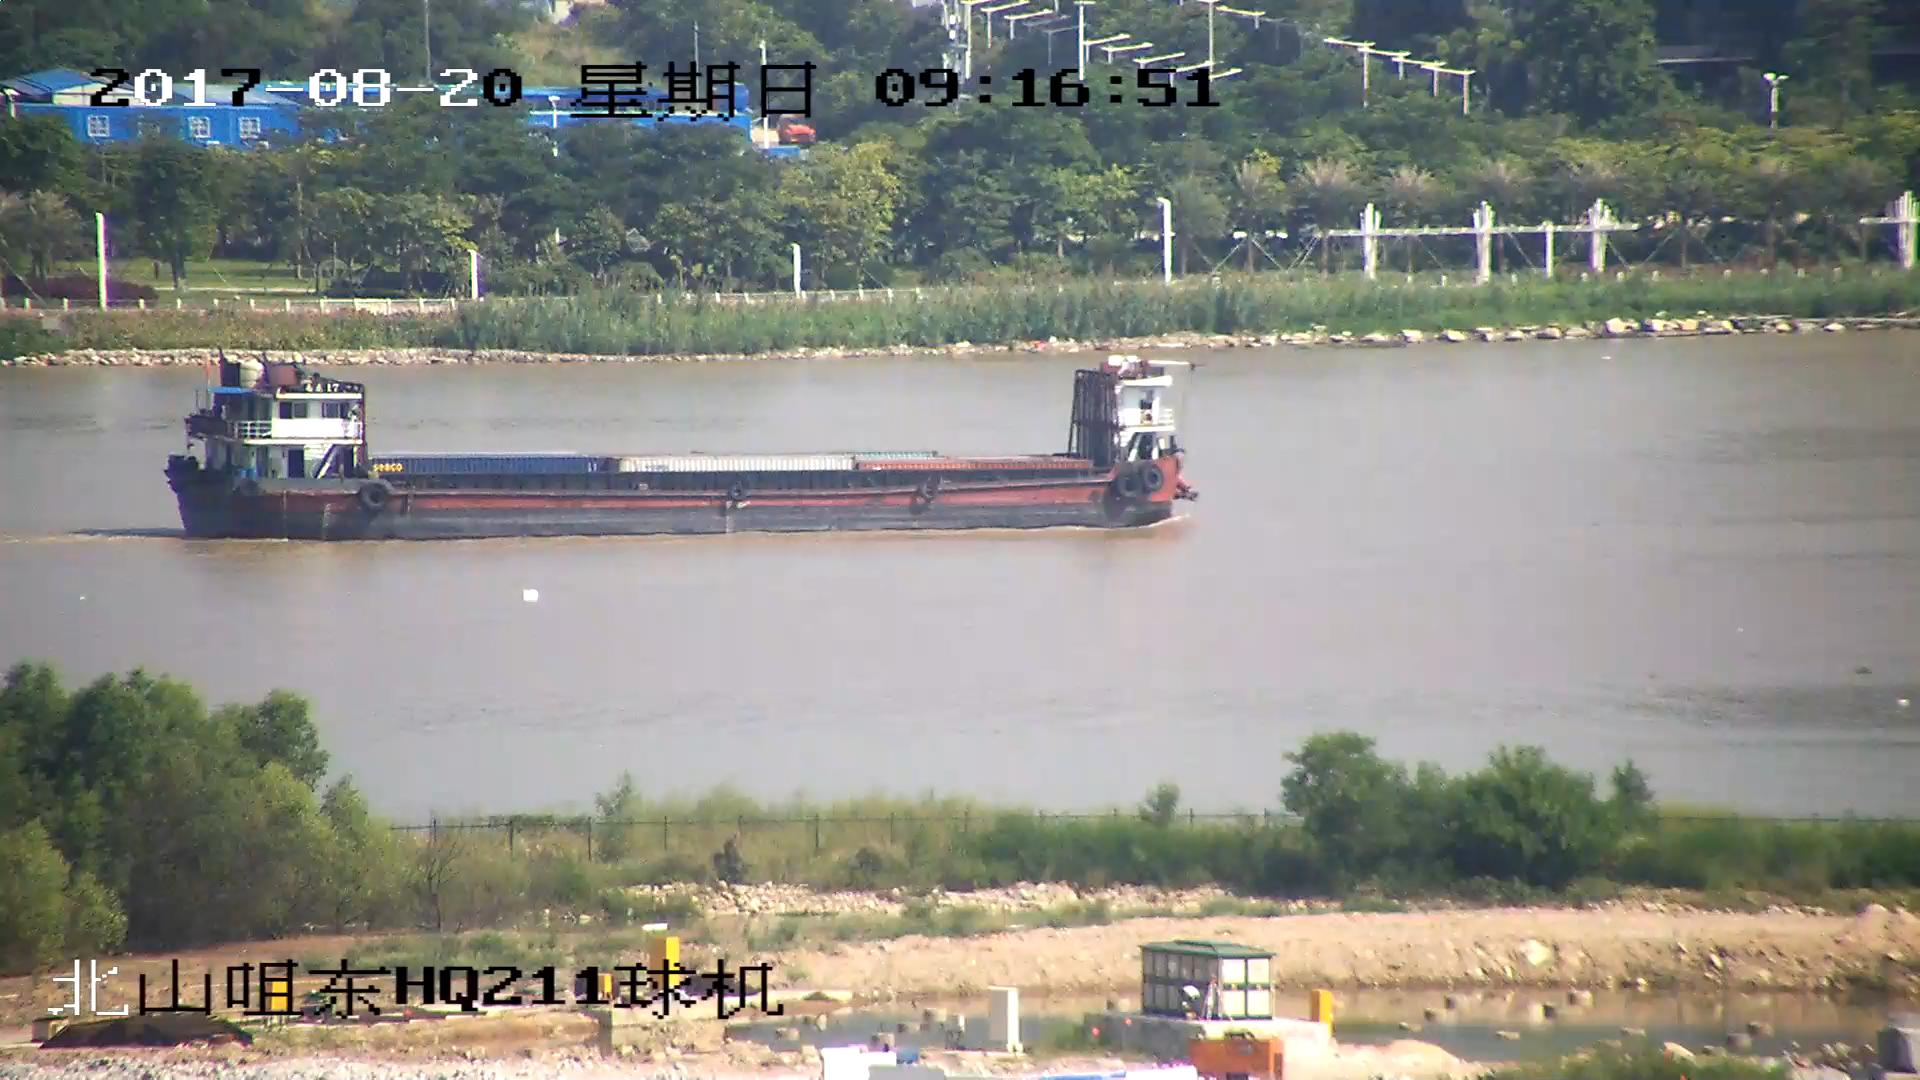general cargo ship: (159, 364, 1203, 536)
